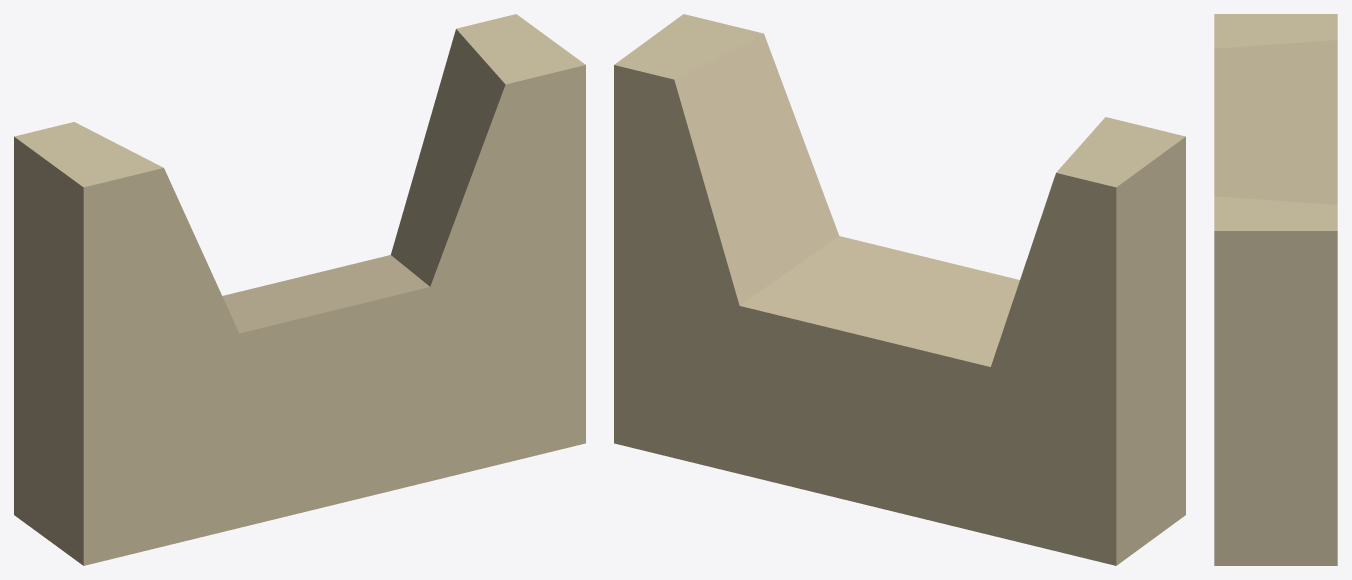
File: notched_battlement.glb
3 views of the same model, side by side, from view 1: azimuth 30°, elevation 25°; view 2: azimuth 150°, elevation 25°; view 3: azimuth 270°, elevation 25° (orthographic). The views are drawn at different scales.
Parts seen in each view (by area): view 1: Notched battlement; view 2: Notched battlement; view 3: Notched battlement.
Part boxes in pixels (x1,y1,x2,y2): Notched battlement: (14,14,585,565); Notched battlement: (614,14,1185,565); Notched battlement: (1214,14,1337,565).
Bounding box in the file's own units: 1 × 0.72 × 0.24.
